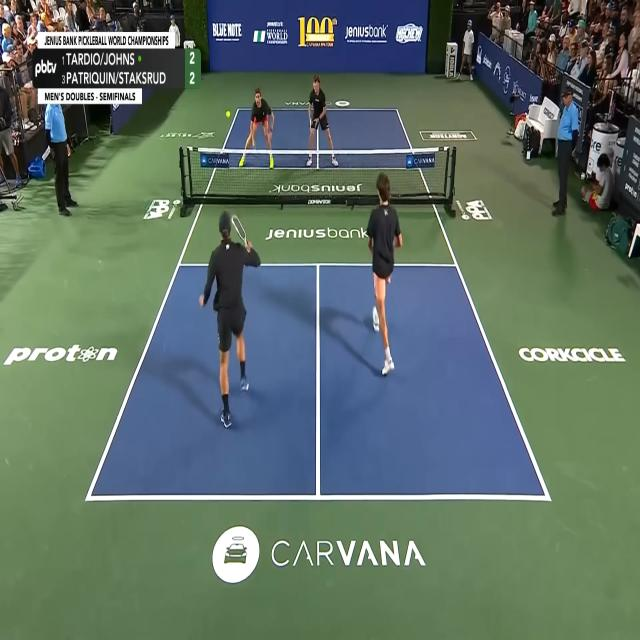ball: (225, 109, 231, 119)
